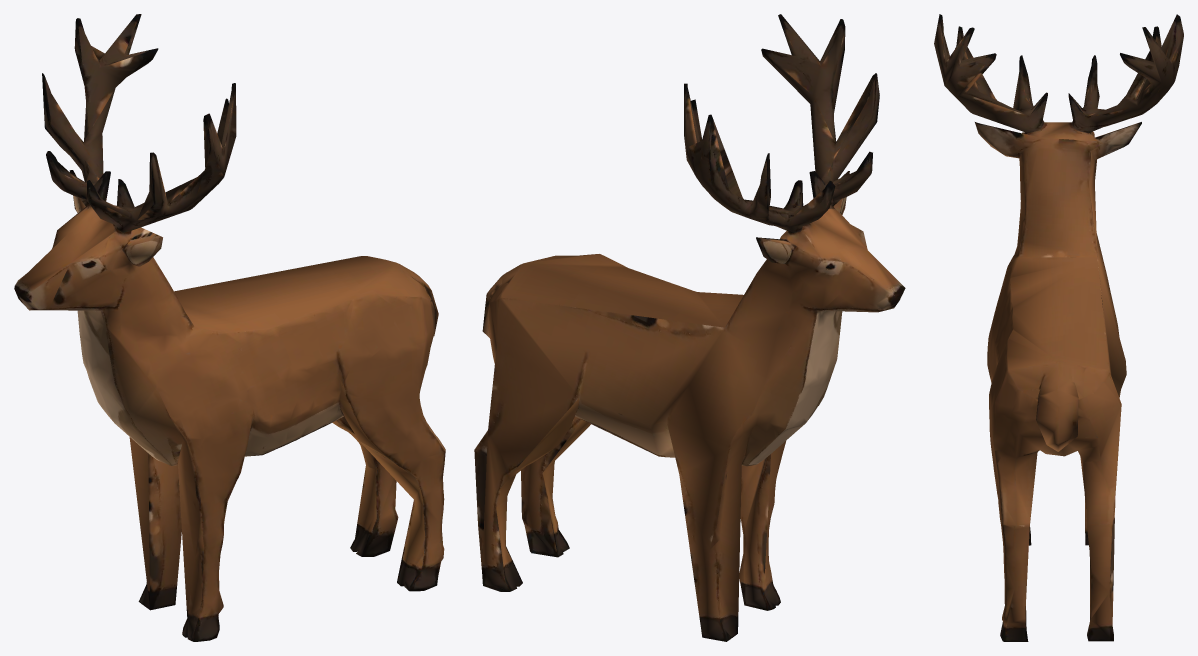
The model's file is deer.glb.
3 renders of one model, left to right at view 1: azimuth 30°, elevation 25°; view 2: azimuth 150°, elevation 25°; view 3: azimuth 270°, elevation 25°, orthographic. The views are drawn at different scales.
Parts seen in each view (by area): view 1: world; view 2: world; view 3: world.
Part boxes in pixels (x1,y1,x2,y2): world: (14, 14, 445, 641); world: (474, 14, 905, 641); world: (934, 14, 1183, 641).
Size of the model in its own units: 0.7661 by 0.9996 by 0.4376.
Materials: 1 (1 with a texture image).
